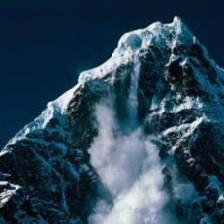neutral: (4, 1, 221, 215)
